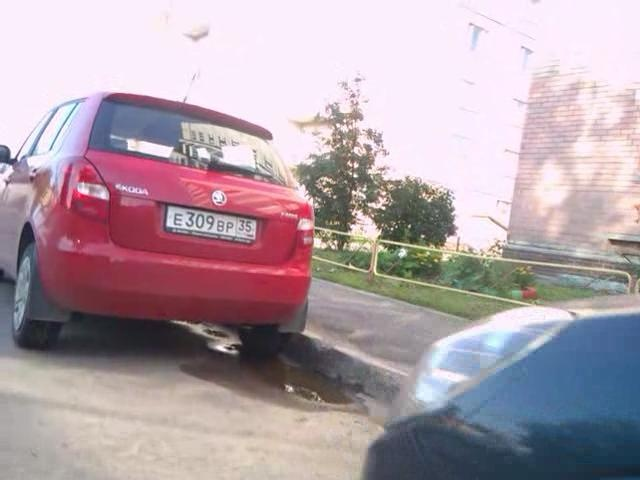car license plate: (163, 203, 259, 246)
